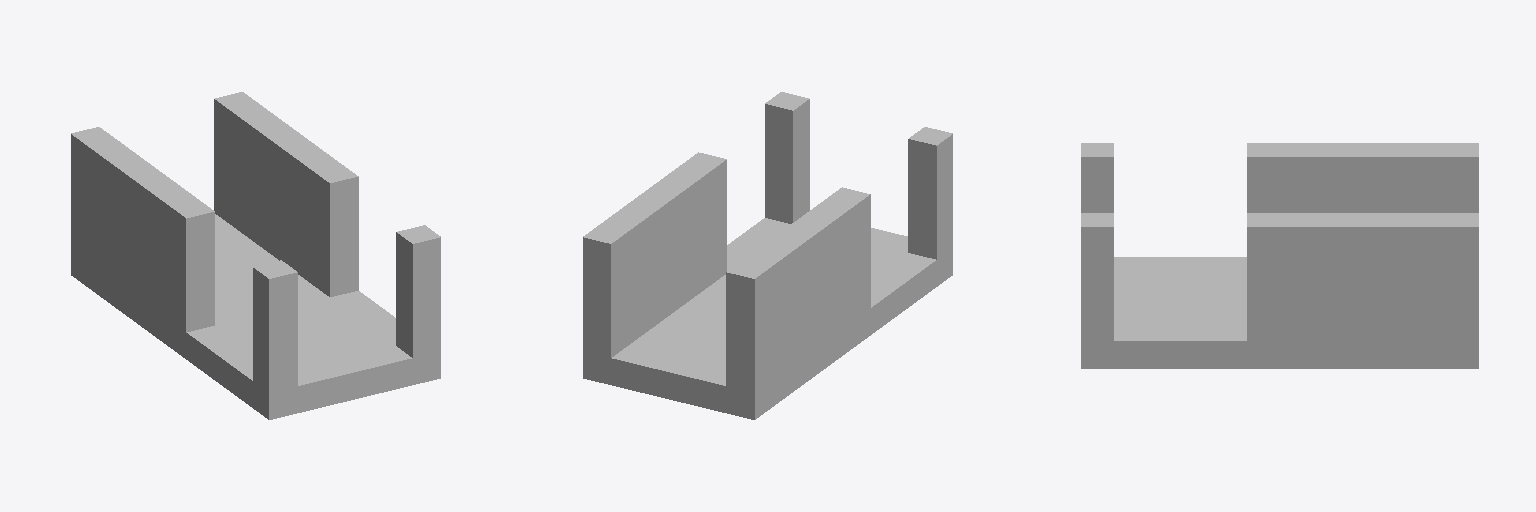
The model's file is module3.obj.
3 renders of one model, left to right at view 1: azimuth 30°, elevation 25°; view 2: azimuth 150°, elevation 25°; view 3: azimuth 270°, elevation 25°, orthographic.
Visible parts, largest first — view 1: Cube.002; view 2: Cube.002; view 3: Cube.002.
Part boxes in pixels (x1,y1,x2,y2): Cube.002: (71, 92, 440, 419); Cube.002: (583, 92, 952, 419); Cube.002: (1081, 143, 1478, 368).
Bounding box in the file's own units: 6 × 4.7 × 12.